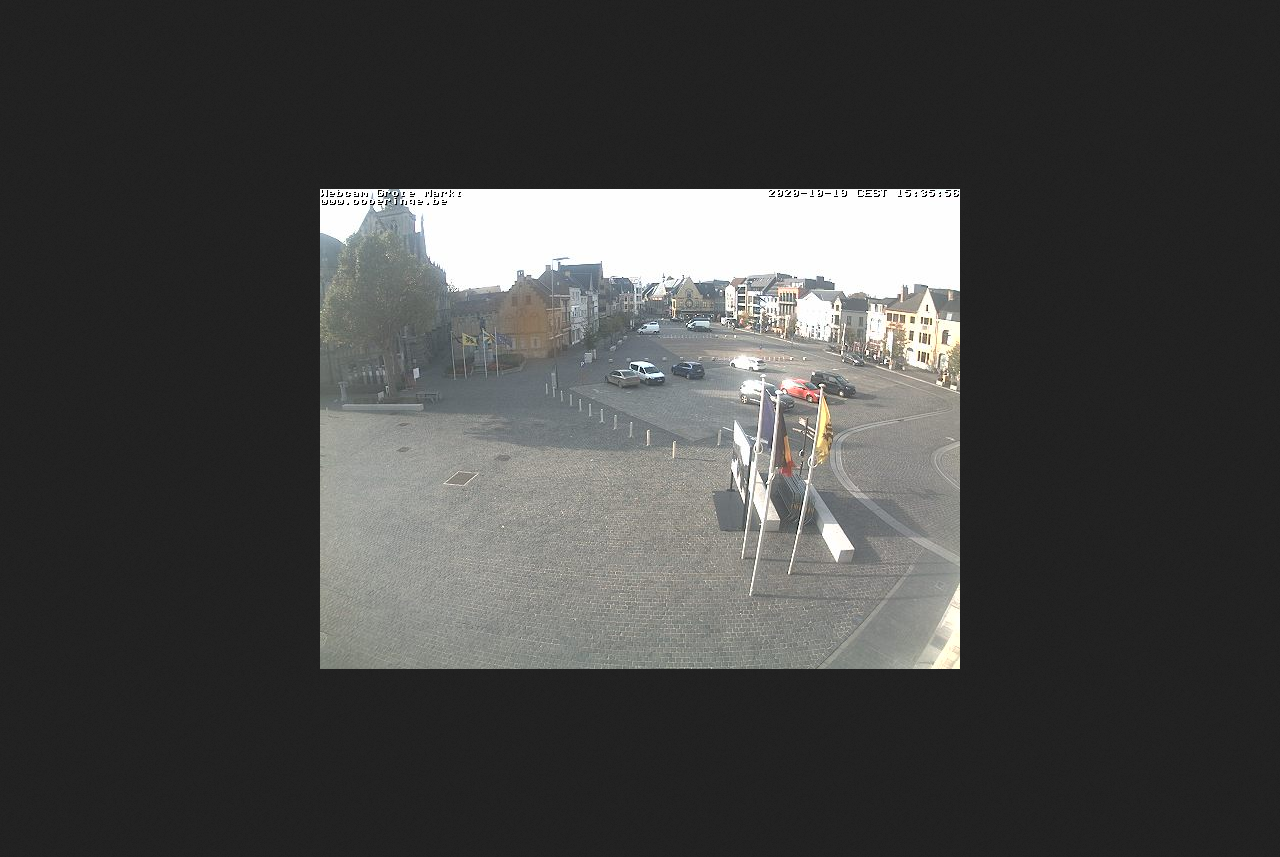maybe: (814, 393, 834, 475), (776, 407, 796, 477), (758, 392, 774, 445)
yes: (495, 330, 511, 350), (481, 327, 497, 345), (463, 332, 477, 347), (451, 329, 461, 344)
